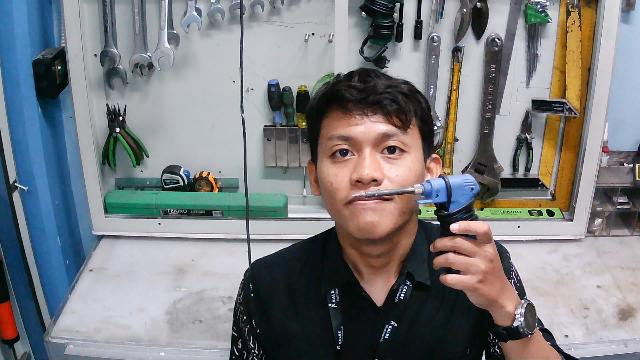solder_electrical: (348, 171, 483, 245)
